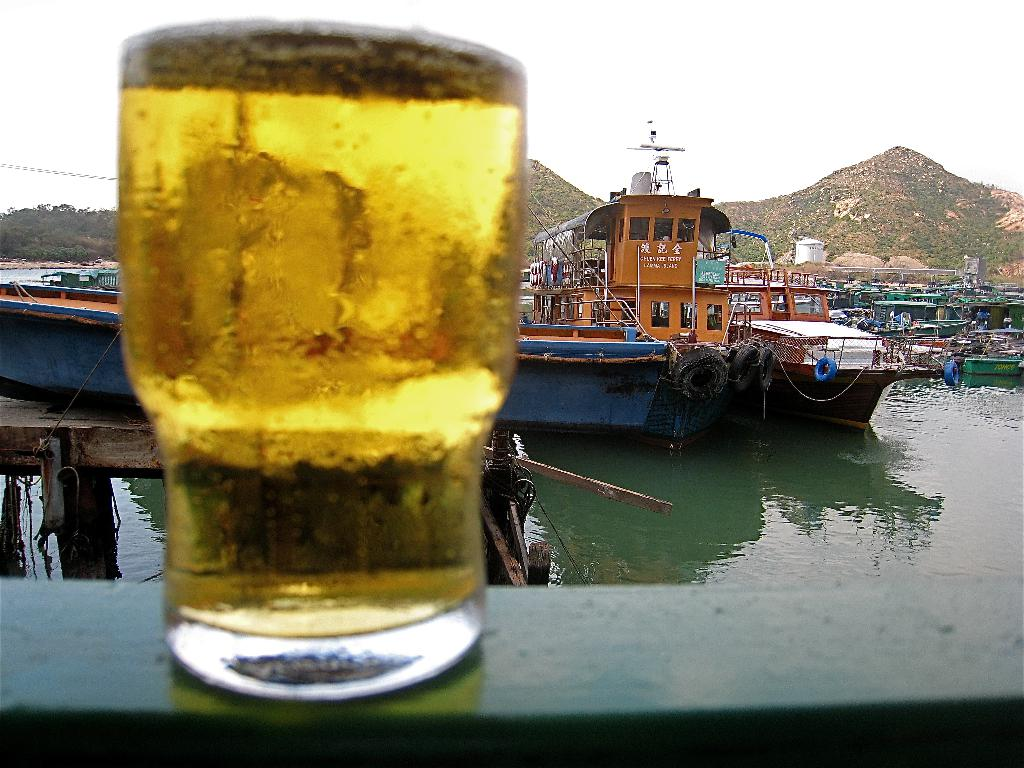Beer: (118, 14, 524, 632)
